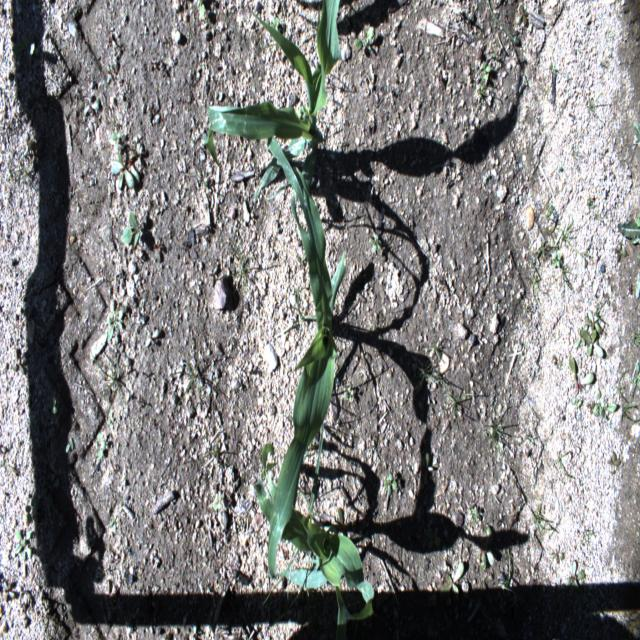crop: (268, 126, 352, 574), (202, 3, 342, 195), (252, 440, 377, 630)
weed: (528, 220, 578, 316), (438, 391, 473, 438), (101, 352, 132, 404), (110, 147, 140, 198), (205, 409, 228, 470), (565, 348, 600, 388), (485, 414, 512, 464), (103, 290, 126, 348), (474, 57, 496, 112), (118, 213, 146, 251), (438, 555, 464, 594), (14, 513, 38, 555), (614, 213, 639, 252), (408, 355, 438, 387), (477, 517, 494, 572), (580, 326, 607, 357), (587, 394, 624, 415), (367, 225, 389, 259), (81, 88, 102, 122), (562, 559, 592, 582), (357, 24, 376, 55), (382, 466, 396, 498)
